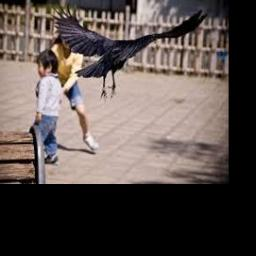Crow: (50, 2, 205, 100)
